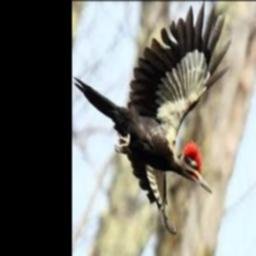Woodpecker: (73, 1, 232, 233)
